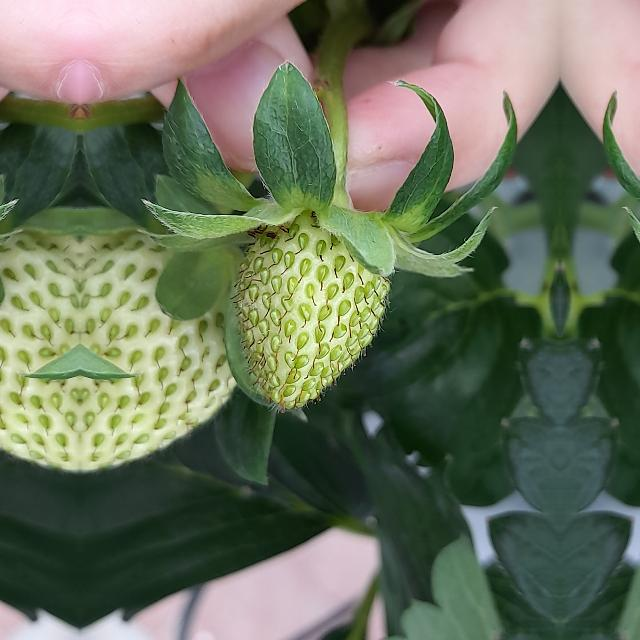Health_25: (80, 216, 238, 474), (230, 211, 394, 413), (0, 216, 80, 474)
